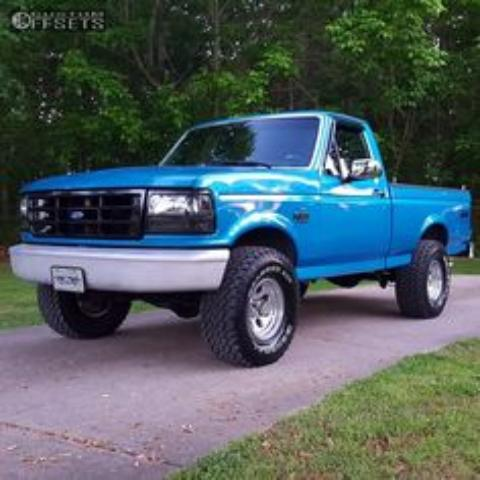pickup-truck: (9, 110, 473, 368)
